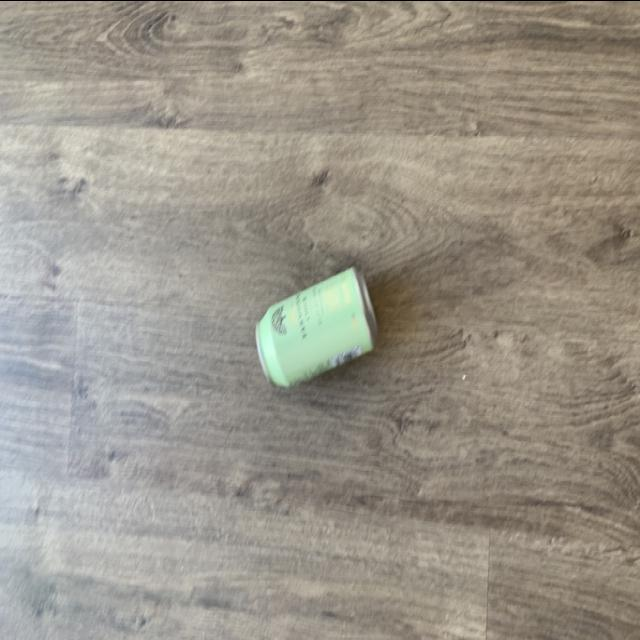Aluminum Can: (248, 253, 388, 398)
